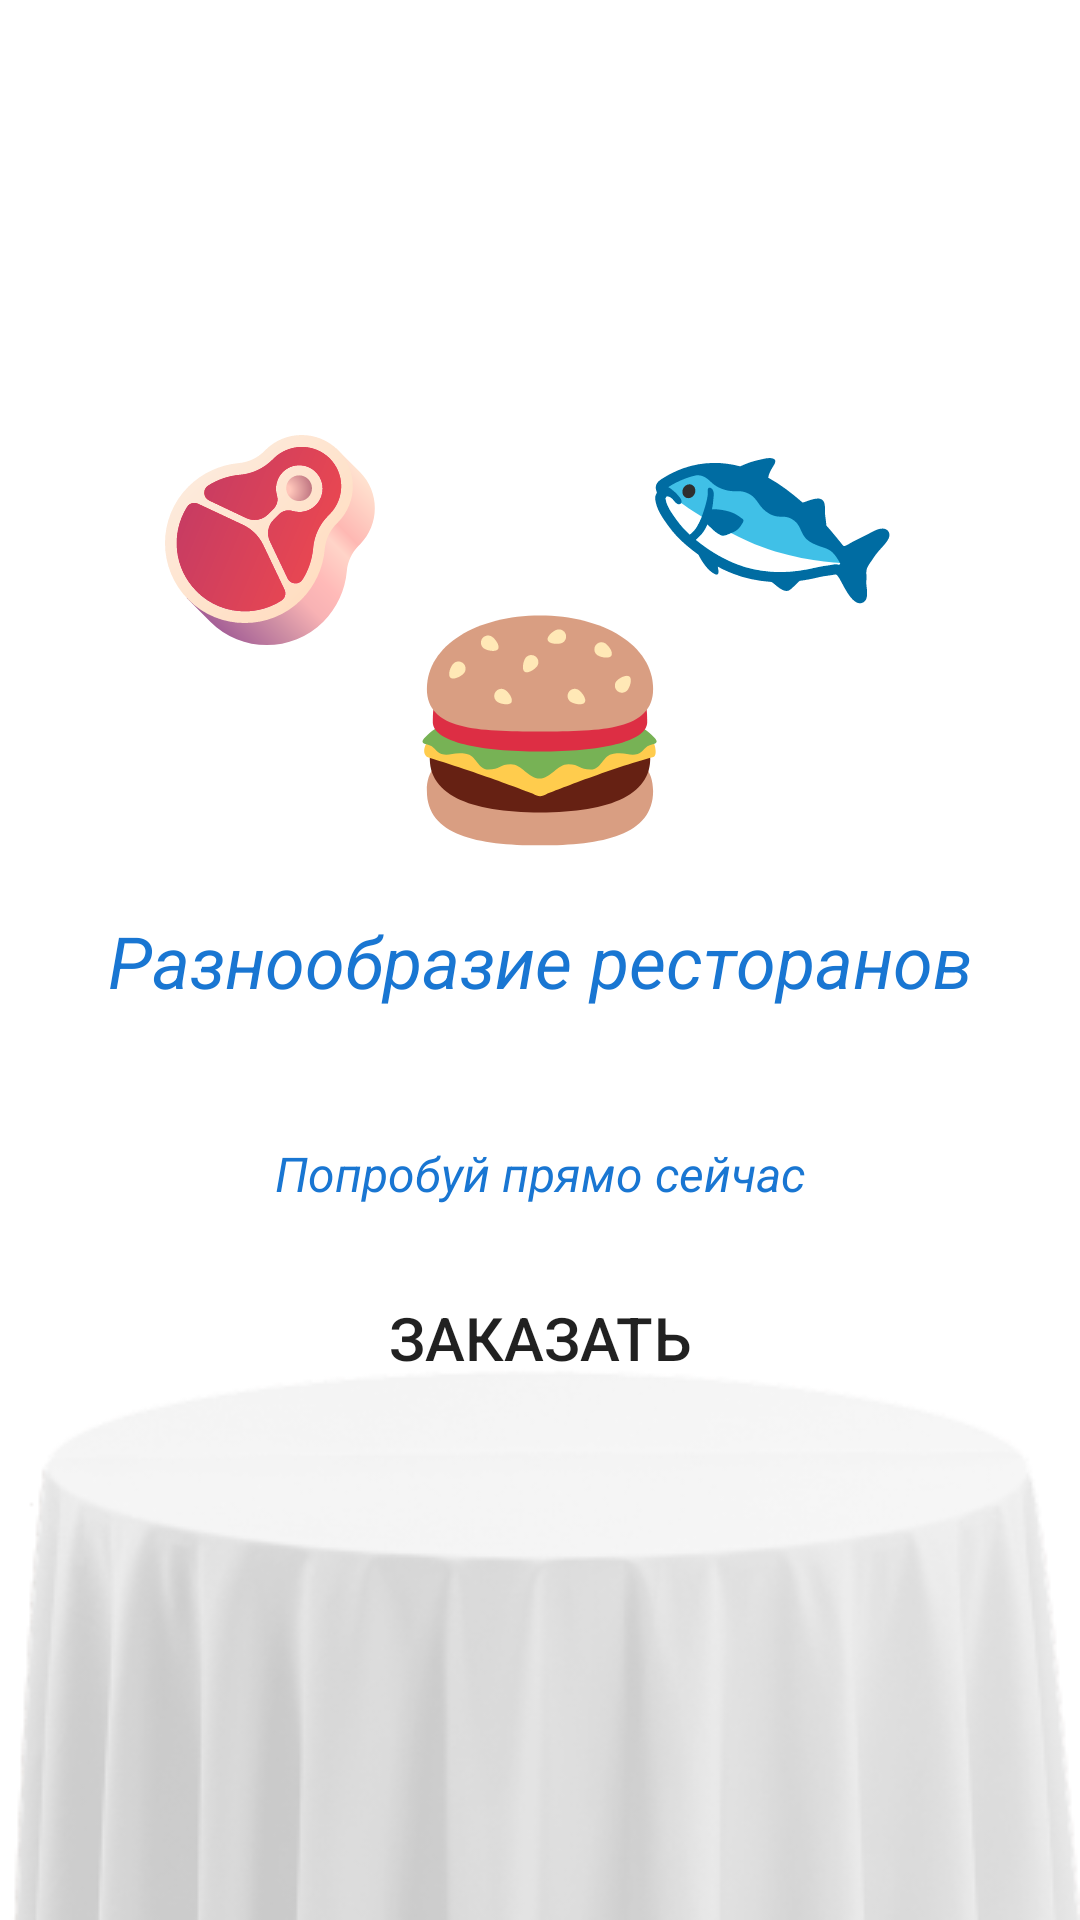

Locate icon controls on the screen. Image size 1080px x 1920px, boxes as [x1,y1,x2,y2].
noto fish: [655,458,890,604]
twemoji hamburger: [422,615,657,846]
